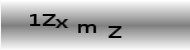1: (28, 13, 40, 26)
Z: (107, 25, 122, 39), (41, 13, 56, 26)
m: (77, 22, 97, 34)
x: (55, 18, 69, 29)
